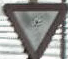Give way: (2, 1, 60, 52)
